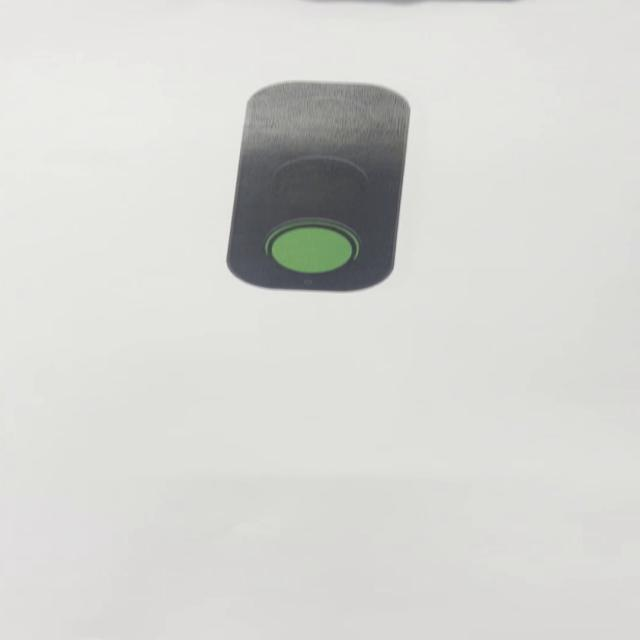green: (222, 82, 404, 294)
